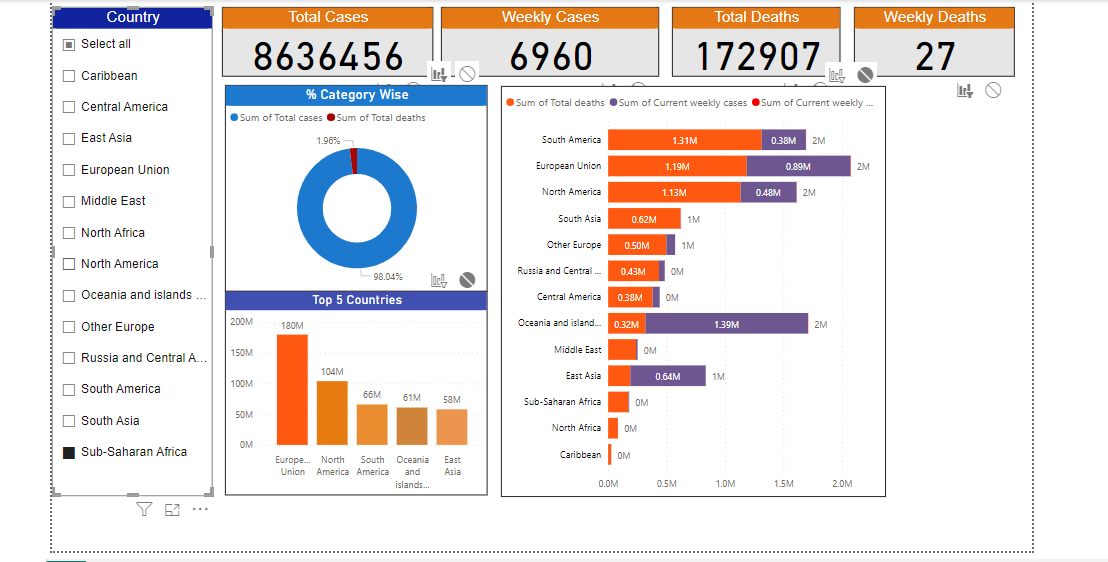

Layout of this report page (visuals, bound fields, positions):
{"tool":"powerbi","page":{"name":"Page 1","canvas":[1280,720],"ordinal":0},"visuals":[{"type":"slicer","title":"Country","fields":{"Values":["COVID-19 cases and deaths by region, in absolute figures and rates per million i.Region[29]"]},"box":[0,9.1,210.4,639],"z":0},{"type":"card","title":"Total Cases","fields":{"Values":["Sum(COVID-19 cases and deaths by region, in absolute figures and rates per million i.Total cases)"]},"box":[222.8,8.6,275.9,90.5],"z":1000},{"type":"card","title":"Weekly Cases","fields":{"Values":["Sum(COVID-19 cases and deaths by region, in absolute figures and rates per million i.Current weekly cases)"]},"box":[508.7,8.6,284.6,90.5],"z":2000},{"type":"card","title":"Total Deaths","fields":{"Values":["Sum(COVID-19 cases and deaths by region, in absolute figures and rates per million i.Total deaths)"]},"box":[810.5,8.6,219.9,90.5],"z":3000},{"type":"card","title":"Weekly Deaths","fields":{"Values":["Sum(COVID-19 cases and deaths by region, in absolute figures and rates per million i.Current weekly deaths)"]},"box":[1047.7,8.6,209.8,90.5],"z":4000},{"type":"donutChart","title":"% Category Wise","fields":{"Y":["Sum(COVID-19 cases and deaths by region, in absolute figures and rates per million i.Total cases)","Sum(COVID-19 cases and deaths by region, in absolute figures and rates per million i.Total deaths)"]},"box":[225.6,110.7,343.5,270.2],"z":5000},{"type":"clusteredColumnChart","title":"Top 5 Countries ","fields":{"Category":["COVID-19 cases and deaths by region, in absolute figures and rates per million i.Region[29]"],"Y":["Sum(COVID-19 cases and deaths by region, in absolute figures and rates per million i.Total cases)"]},"box":[225.6,380.8,343.5,267.3],"z":6000},{"type":"barChart","fields":{"Category":["COVID-19 cases and deaths by region, in absolute figures and rates per million i.Region[29]"],"Y":["Sum(COVID-19 cases and deaths by region, in absolute figures and rates per million i.Total deaths)","Sum(COVID-19 cases and deaths by region, in absolute figures and rates per million i.Current weekly cases)","Sum(COVID-19 cases and deaths by region, in absolute figures and rates per million i.Current weekly deaths)"]},"box":[586.3,112.1,503,537.5],"z":6001}]}

Visuals, with their boxes in screenshot pixels (x1, y1, x2, y2):
"Country" slicer: [46,4,208,497]
"Total Cases" card: [218,4,430,73]
"Weekly Cases" card: [438,4,658,73]
"Total Deaths" card: [671,4,840,73]
"Weekly Deaths" card: [854,4,1015,73]
"% Category Wise" donutChart: [220,82,485,291]
"Top 5 Countries " clusteredColumnChart: [220,291,485,497]
barChart - COVID-19 cases and deaths by region, in absolute figures and rates per million i.Region[29] x Sum(COVID-19 cases and deaths by region, in absolute figures and rates per million i.Total deaths): [498,84,886,498]
